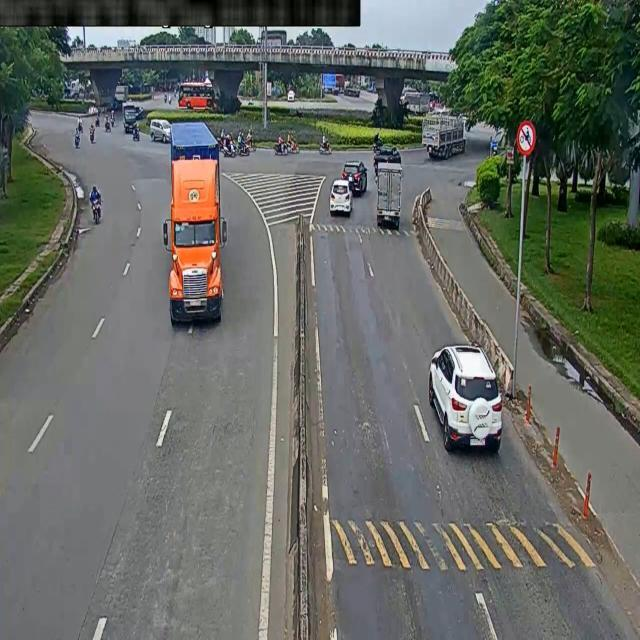car: (427, 336, 509, 466), (338, 152, 368, 202), (326, 179, 355, 217)
truck: (166, 112, 228, 333), (419, 108, 472, 166), (374, 160, 404, 232)
